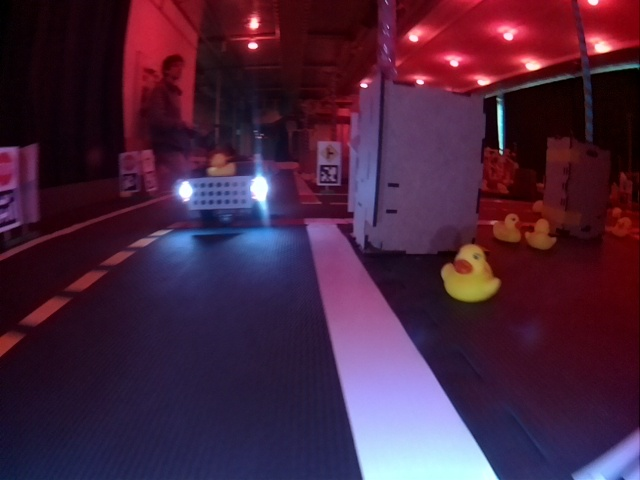Duckie: (442, 248, 499, 302), (527, 219, 557, 248), (493, 214, 520, 242), (208, 154, 236, 176)
Duckiebot: (180, 164, 267, 222)
Intersection sign: (320, 144, 339, 162)
QR code: (319, 165, 338, 183), (121, 174, 137, 190)
